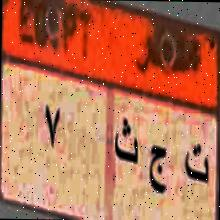7: (40, 92, 64, 150)
jeem: (146, 142, 169, 200)
taa: (183, 136, 211, 196)
thaa: (112, 110, 139, 174)
